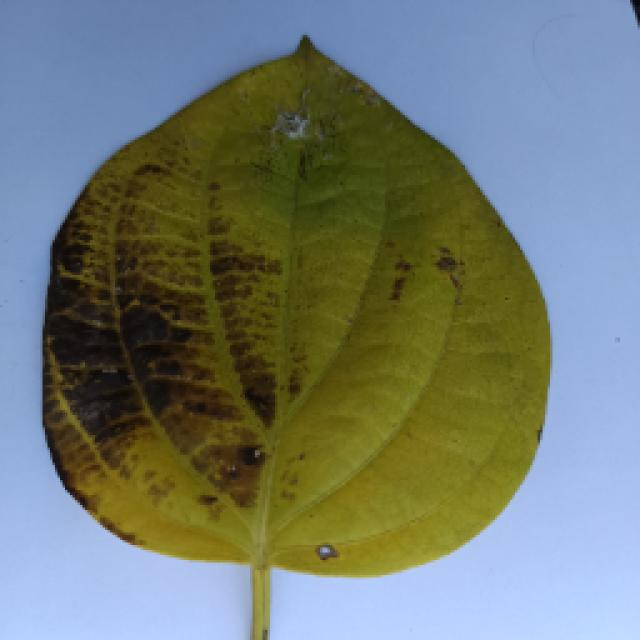slow-decline: (32, 45, 550, 640)
